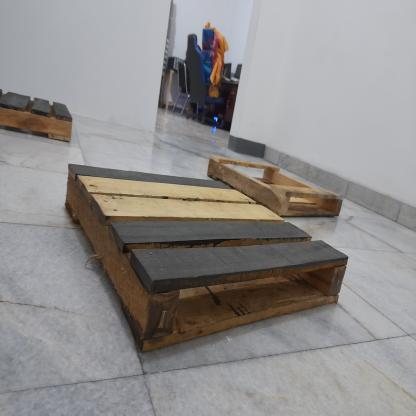Wooden-Pallet: (63, 161, 357, 358), (205, 158, 344, 218), (2, 87, 75, 141)
